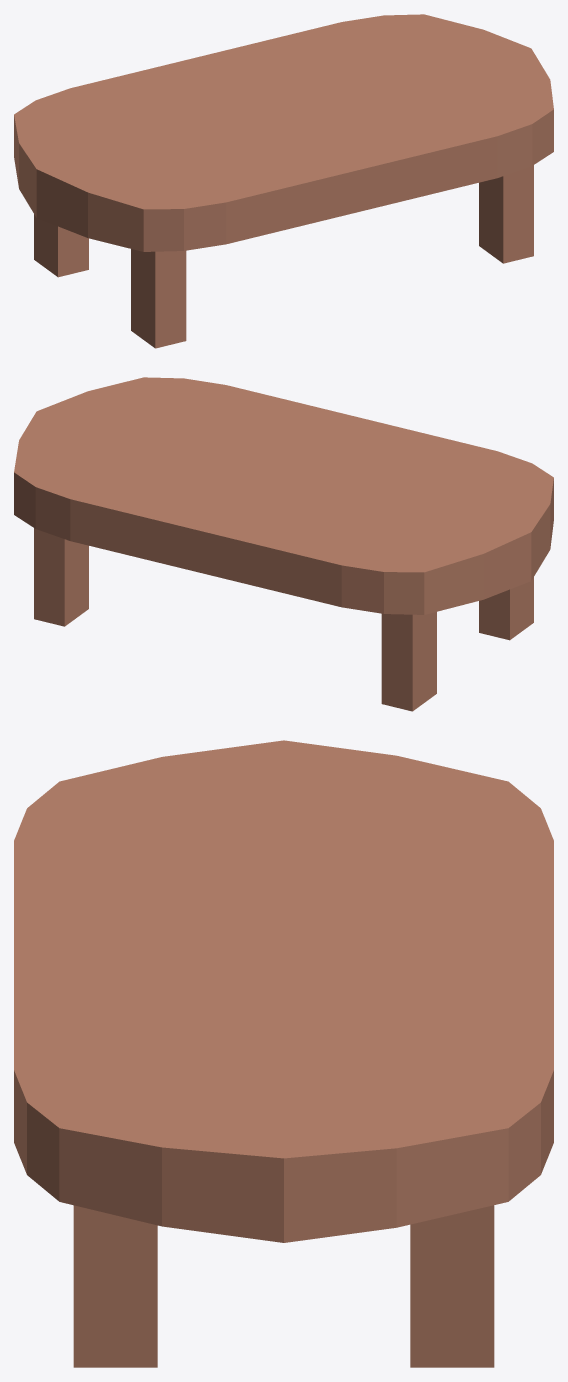
Rendered from Table_Short.fbx.
3 renders of one model, top to bottom at view 1: azimuth 30°, elevation 25°; view 2: azimuth 150°, elevation 25°; view 3: azimuth 270°, elevation 25°, orthographic. The views are drawn at different scales.
Parts seen in each view (by area): view 1: Table Short, Cube.002; view 2: Table Short, Cube.002; view 3: Table Short, Cube.002.
Boxes of the visible parts, x1,y1,x2,y2 form: Table Short: (14,14,553,251); Cube.002: (34,165,533,348); Table Short: (14,377,553,614); Cube.002: (34,528,533,711); Table Short: (14,740,553,1242); Cube.002: (73,1205,494,1367).
Size of the model in its own units: 105 by 30.16 by 57.17.
